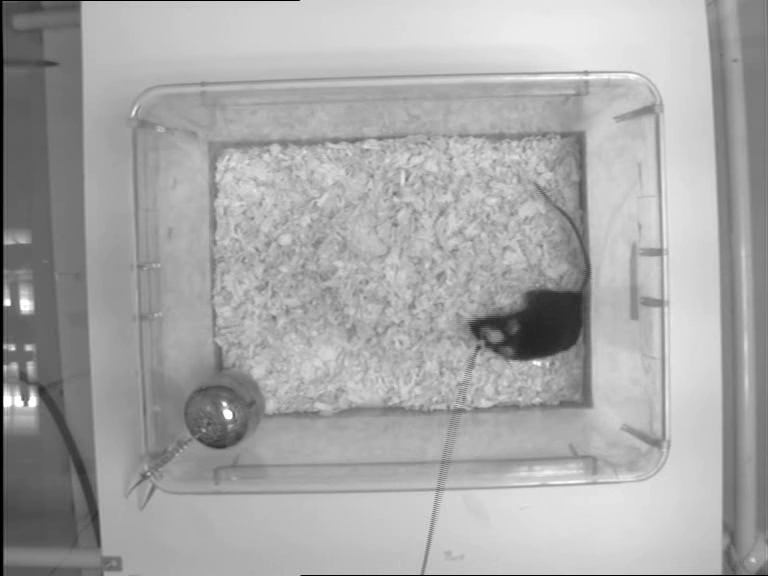mice: (468, 181, 588, 363)
